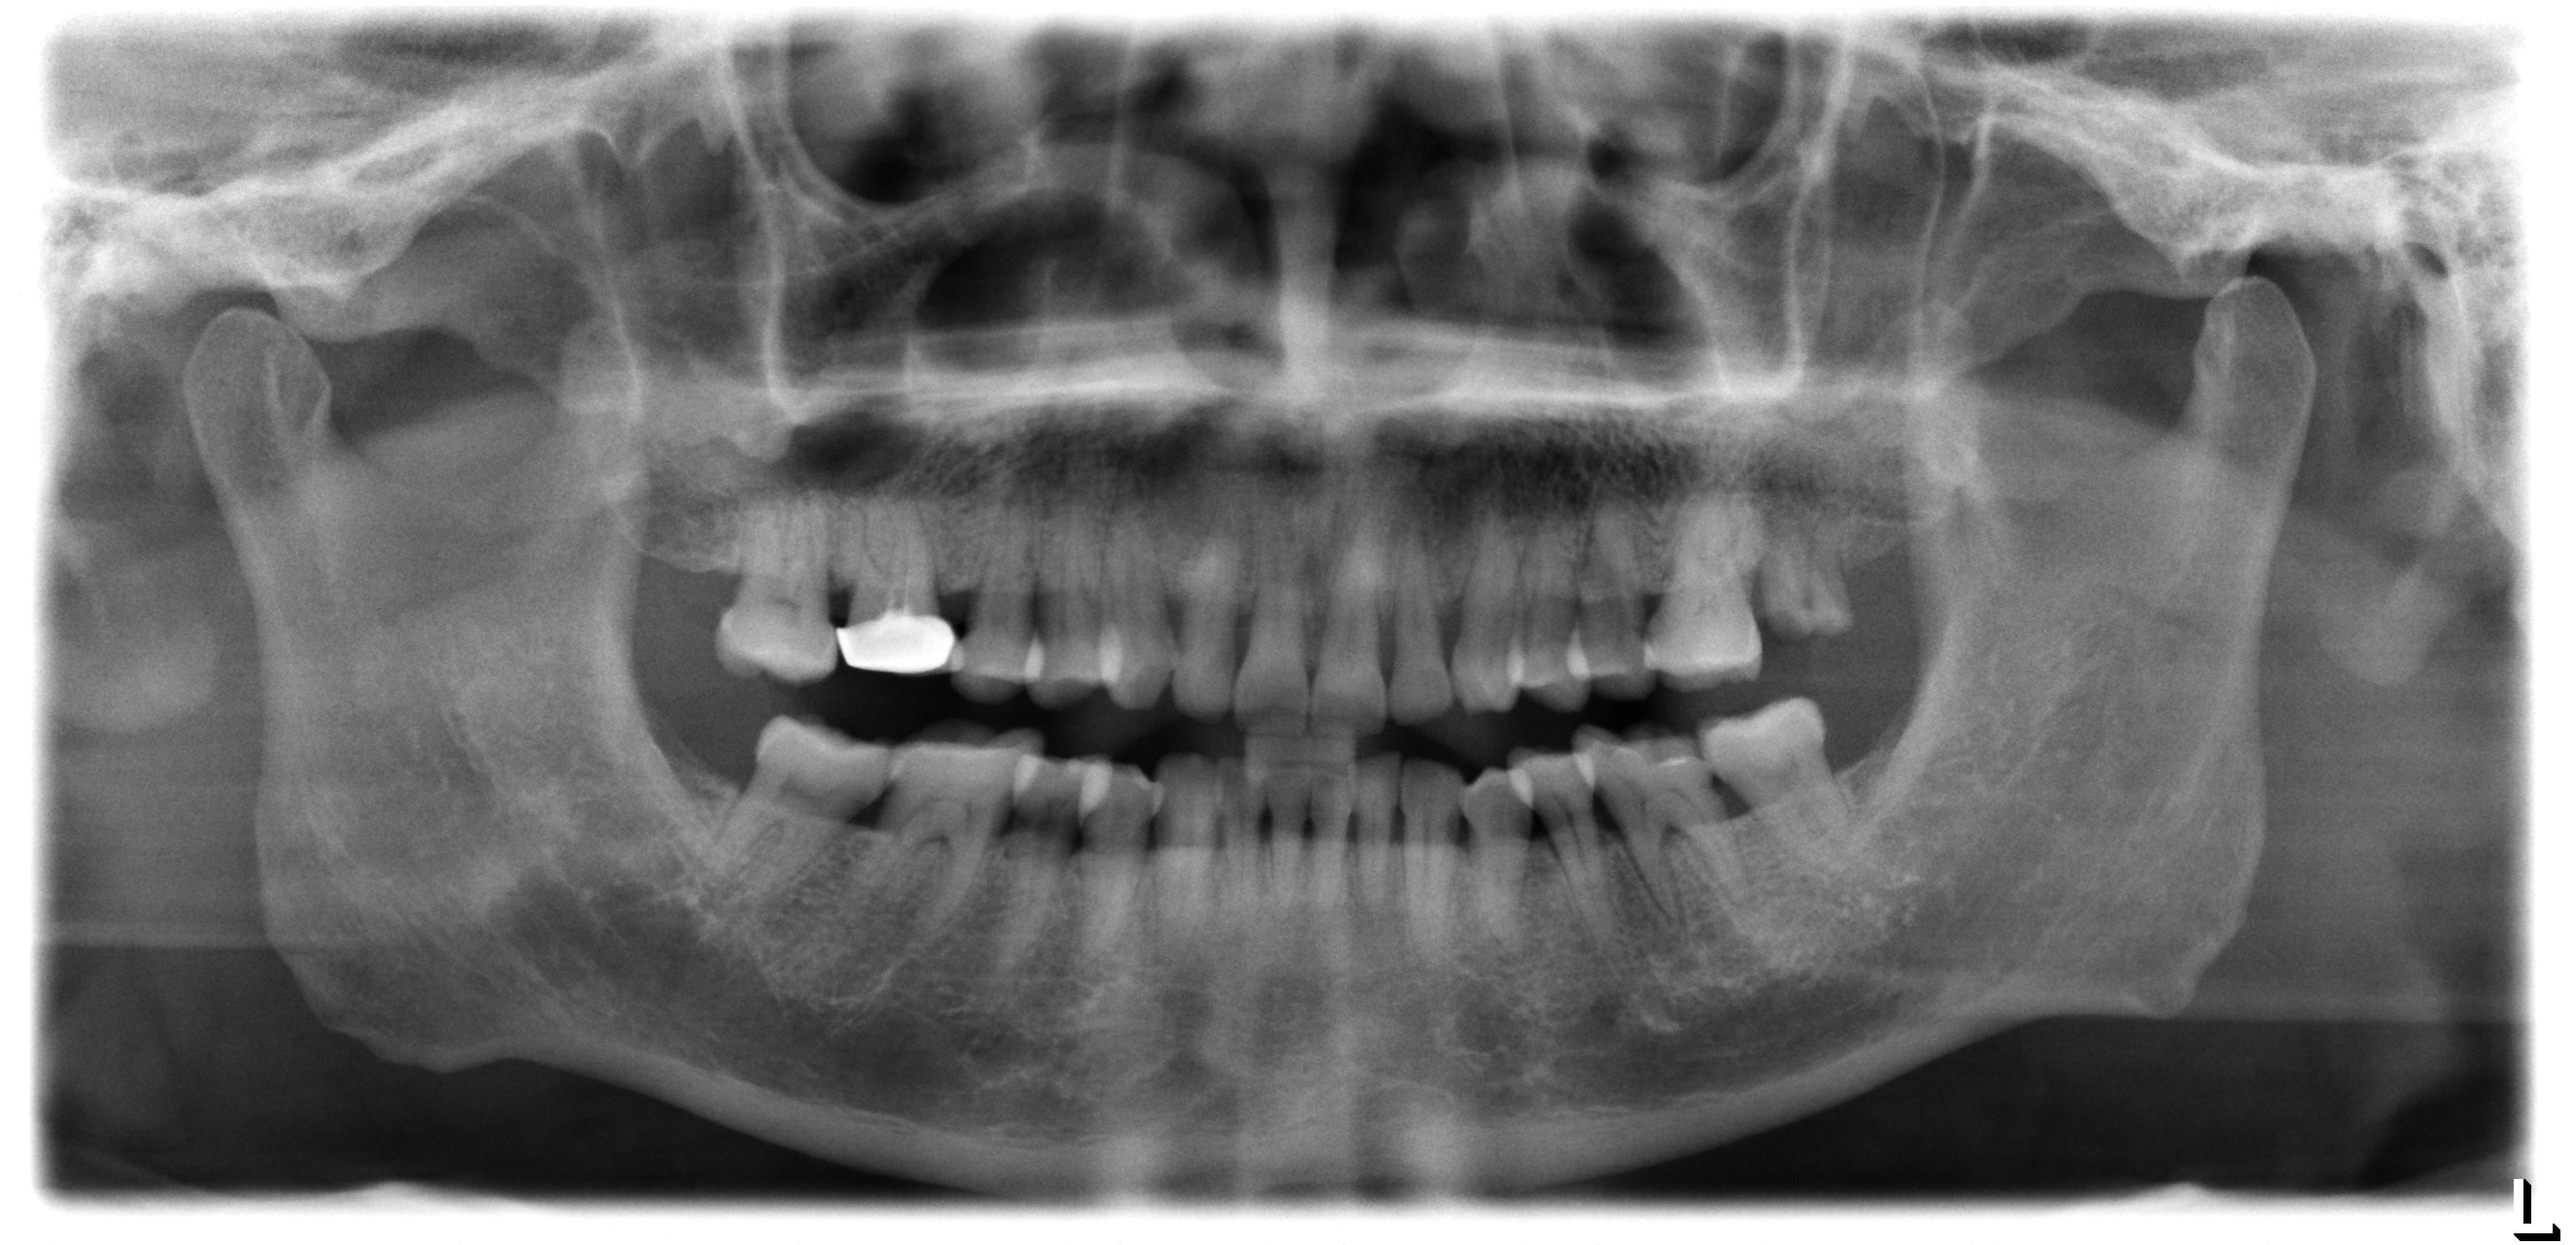Decay: (1761, 511, 1860, 641), (1580, 719, 1704, 770)
